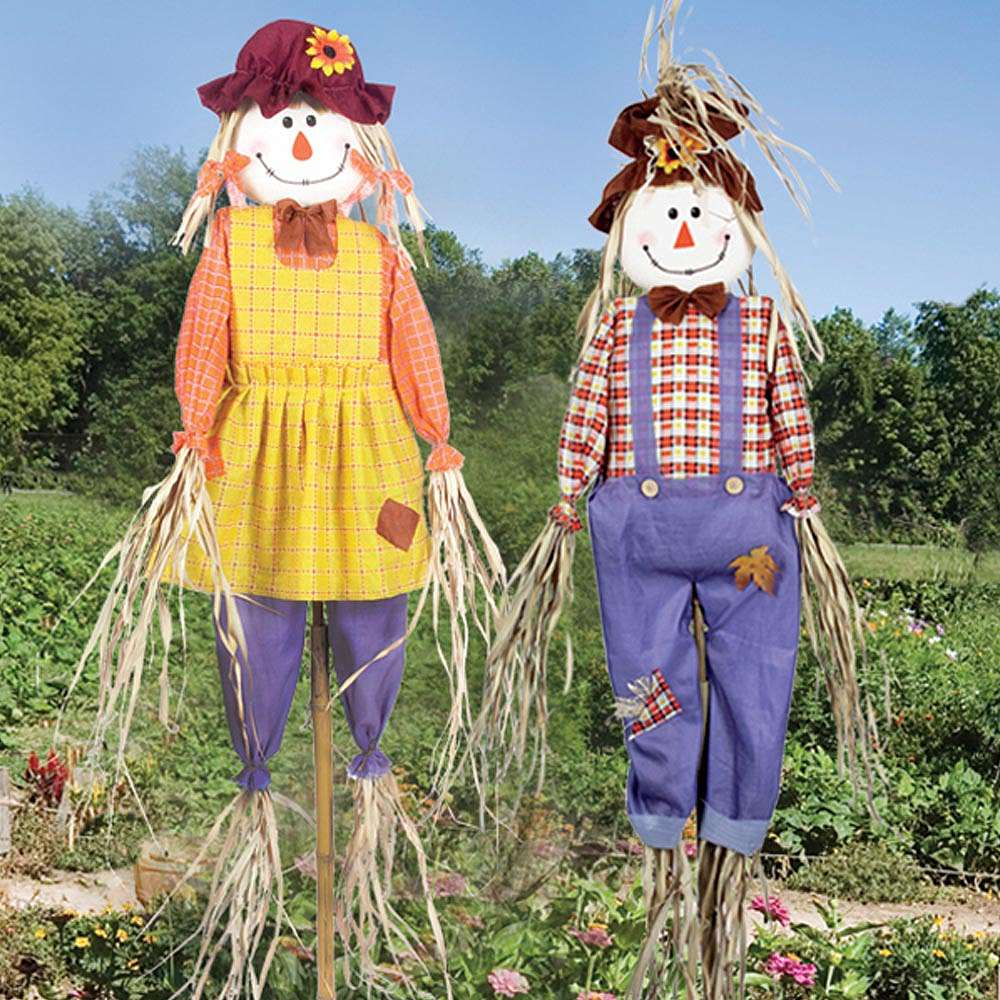person-like: (114, 16, 485, 1000), (515, 27, 873, 981)
